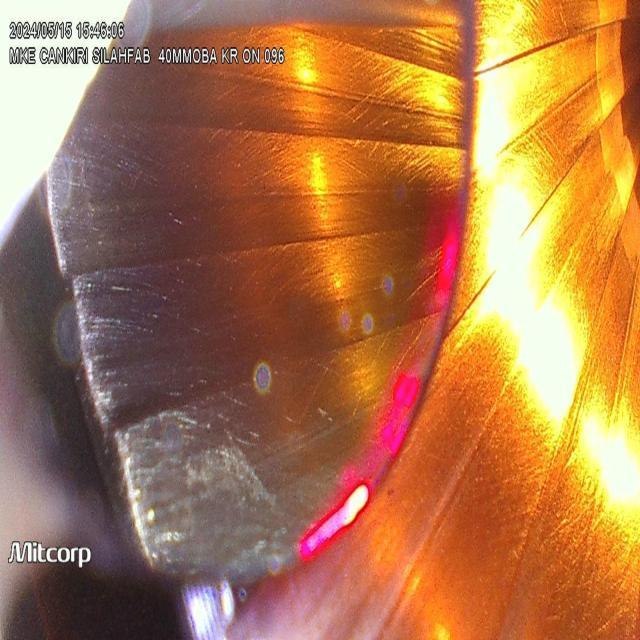hata_8.2: (122, 425, 308, 593)
